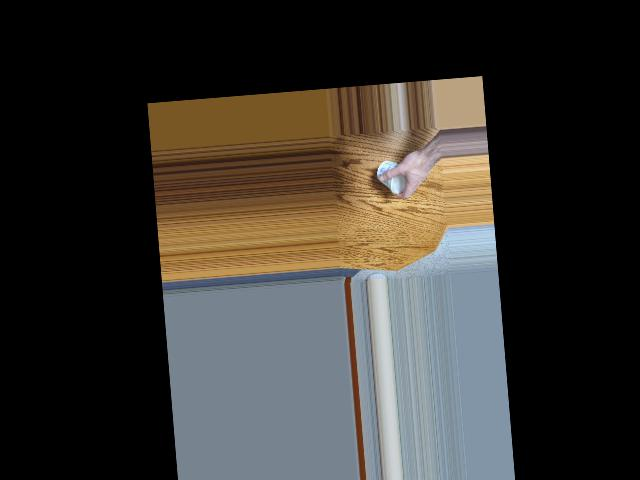cotage: (378, 155, 412, 196)
